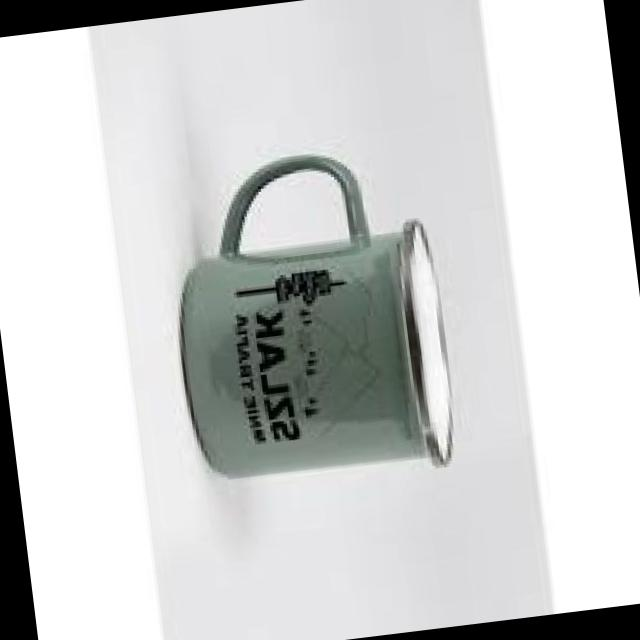Coffee Mug: (158, 139, 458, 495)
